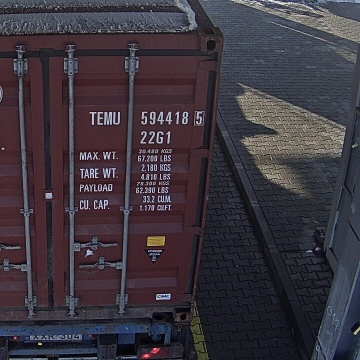serial_id: (90, 111, 203, 124)
